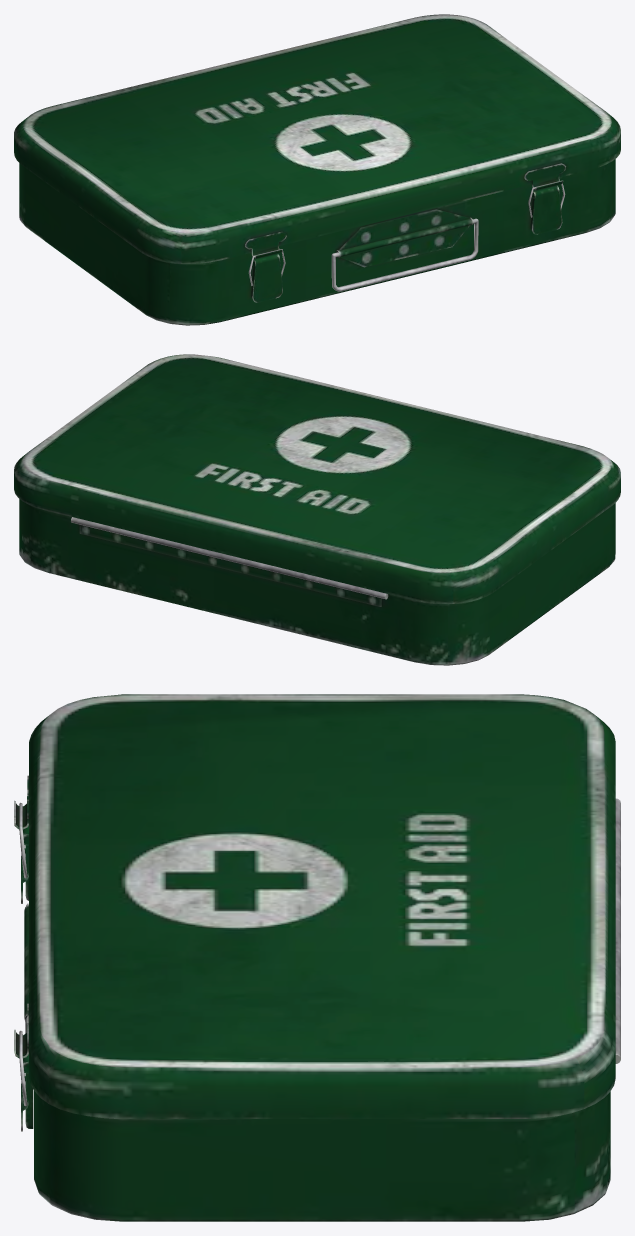
Rendered from ph_medical_box.glb.
3 views of the same model, one above another, from view 1: azimuth 30°, elevation 25°; view 2: azimuth 150°, elevation 25°; view 3: azimuth 270°, elevation 25° (orthographic). The views are drawn at different scales.
Parts seen in each view (by area): view 1: medical_box_latch; view 2: medical_box_latch; view 3: medical_box_latch.
Boxes of the visible parts, x1,y1,x2,y2 form: medical_box_latch: [14, 14, 620, 325]; medical_box_latch: [14, 354, 620, 665]; medical_box_latch: [14, 694, 620, 1221].
Bounding box in the file's own units: 0.5255 × 0.0975 × 0.3501.
1 material, 1 textured.
